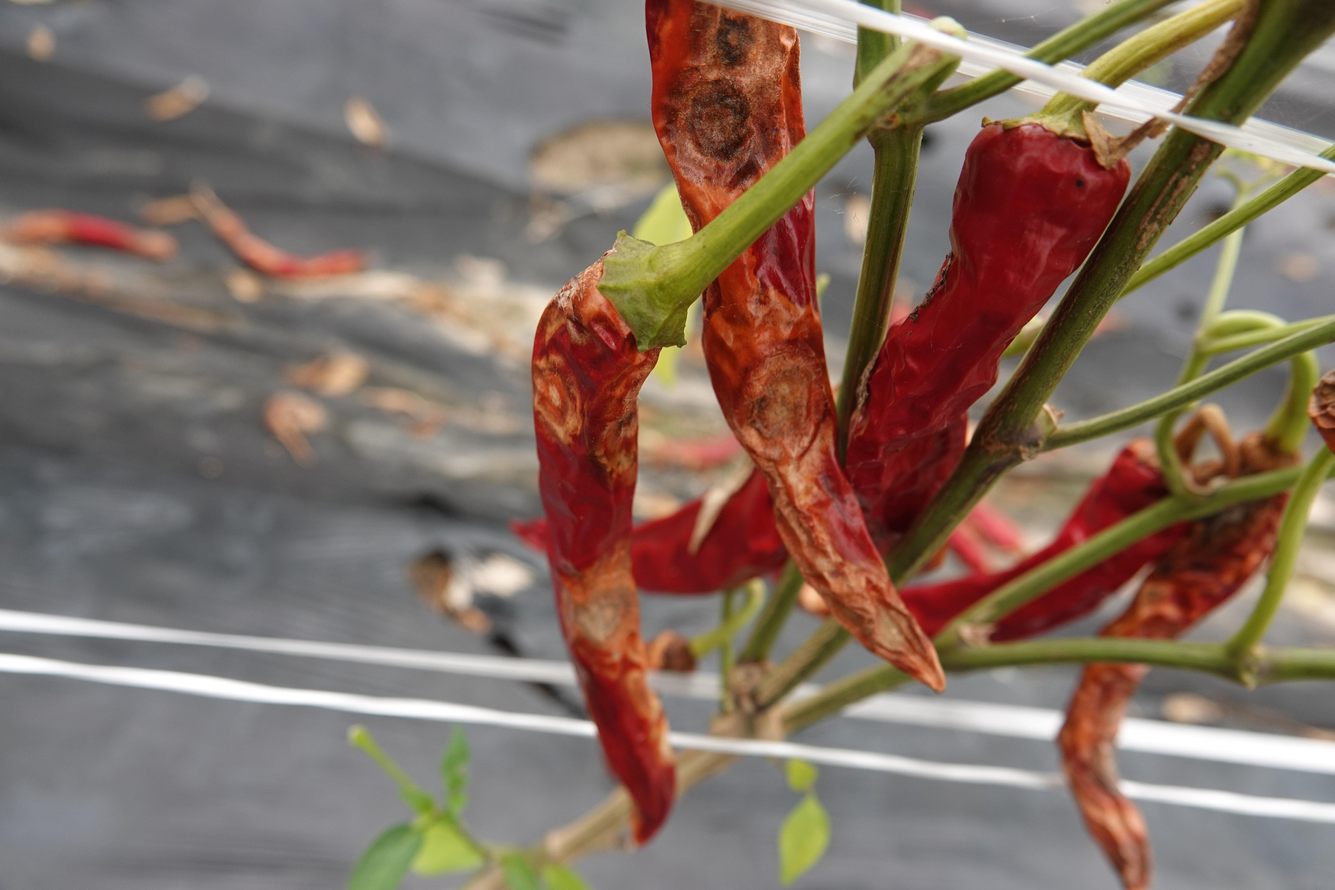Busuk Buah Antraknosa: (644, 0, 953, 705), (800, 111, 1130, 623), (522, 245, 690, 856)
